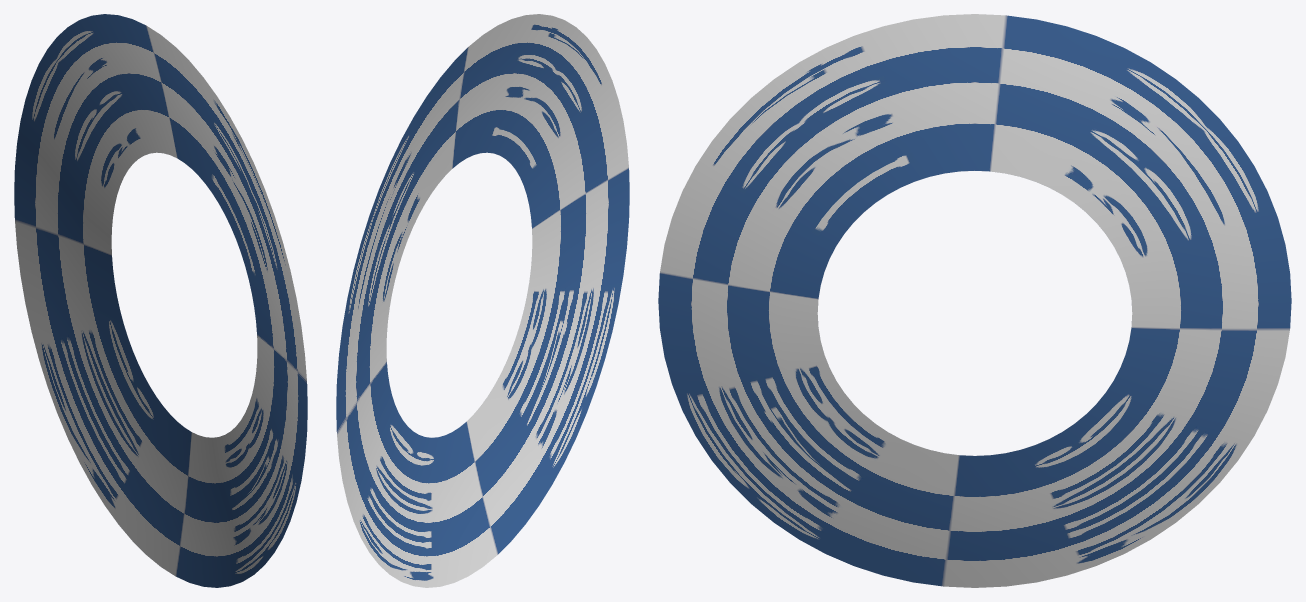
Rendered from Ring3.fbx.
The picture shows the model from 3 angles, left to right: view 1: azimuth 30°, elevation 25°; view 2: azimuth 150°, elevation 25°; view 3: azimuth 270°, elevation 25°; orthographic projection. The views are drawn at different scales.
Visible parts, largest first — view 1: SM_e_Useful_Ring004; view 2: SM_e_Useful_Ring004; view 3: SM_e_Useful_Ring004.
Boxes of the visible parts, x1,y1,x2,y2 form: SM_e_Useful_Ring004: (14,14,307,587); SM_e_Useful_Ring004: (336,14,629,587); SM_e_Useful_Ring004: (658,14,1291,587).
Bounding box in the file's own units: 4.51 × 97.46 × 97.46.
